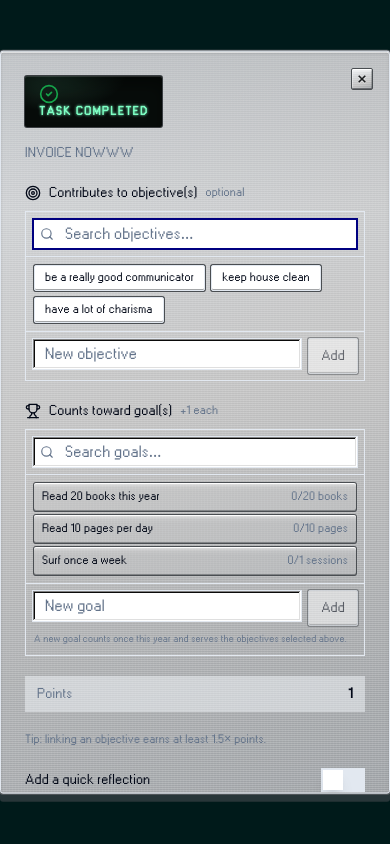
Test case: CompletionDialog › filters objectives as you type in the search field
Check: the button "be a really good communicator" is shown, box x1=34 y1=265 x2=205 y2=291
Check: the button "keep house clean" is shown, box x1=211 y1=265 x2=321 y2=291
In the search field labelled "Search objectives": (195,234) x1=32 y1=218 x2=358 y2=250, type "charisma"
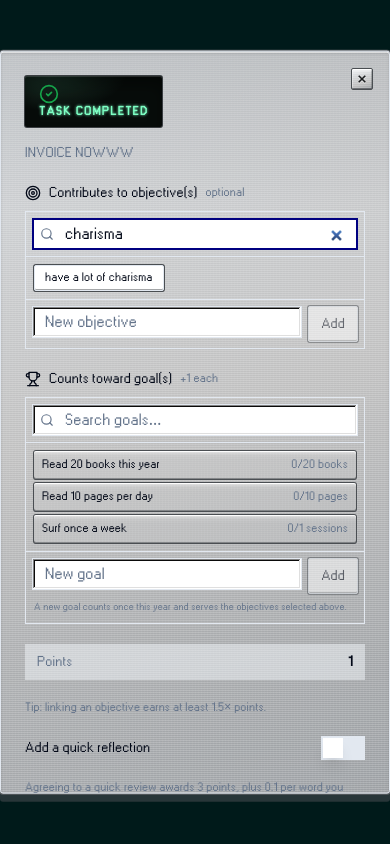
Check: the button "have a lot of charisma" is shown, box x1=34 y1=265 x2=164 y2=291
Check: the button "be a really good communicator" is gone
Check: the button "keep house clean" is gone
